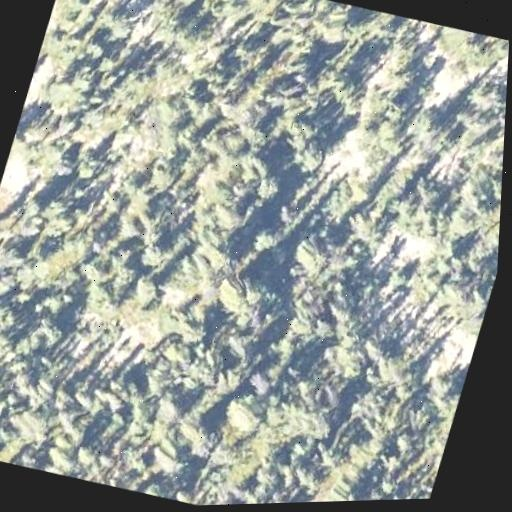tree-top: (270, 110, 342, 178), (31, 57, 101, 125), (356, 76, 423, 143), (278, 223, 340, 283), (213, 387, 273, 444), (210, 269, 266, 322), (319, 60, 369, 111), (459, 73, 507, 118), (408, 101, 452, 147), (131, 235, 176, 279), (69, 144, 110, 187), (125, 267, 165, 307), (32, 312, 71, 353), (252, 165, 290, 205), (250, 220, 289, 257), (65, 437, 104, 471), (0, 289, 23, 340), (373, 349, 405, 384), (139, 474, 175, 500), (49, 379, 78, 410), (168, 0, 209, 13)
